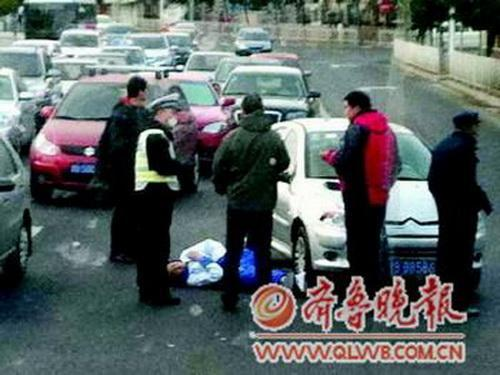Fall-Detected: (154, 229, 298, 303)
